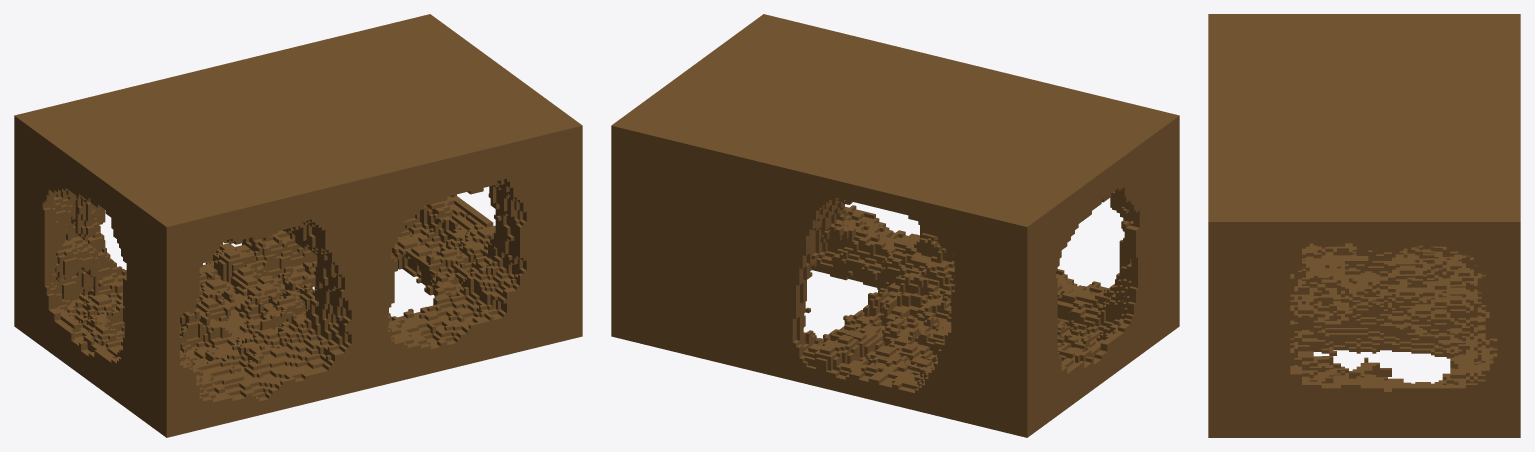
The model's file is Level 1 Middle_Second Player Cube.obj.
3 renders of one model, left to right at view 1: azimuth 30°, elevation 25°; view 2: azimuth 150°, elevation 25°; view 3: azimuth 270°, elevation 25°, orthographic. The views are drawn at different scales.
Bounding box in the file's own units: 126 × 61 × 80.
Materials: 1 (1 with a texture image).
